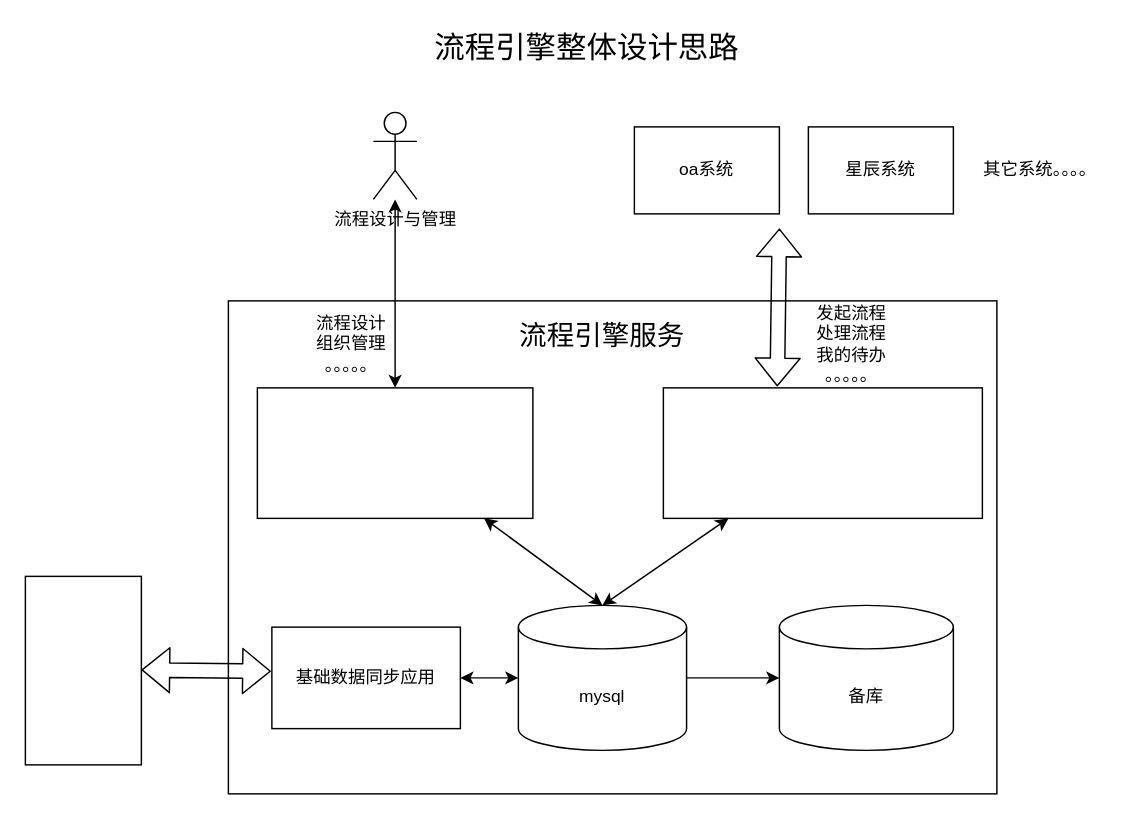
Some shapes in this 1138 by 819 pixel diagram are drawn without their labels. Each missing label, with the centre of its shape:
"workflow-admin 管理后台服务" belongs at (394,452).
"workflow-open-api 开放api" belongs at (822,452).
"员工 岗位 。。。" belongs at (82,670).
